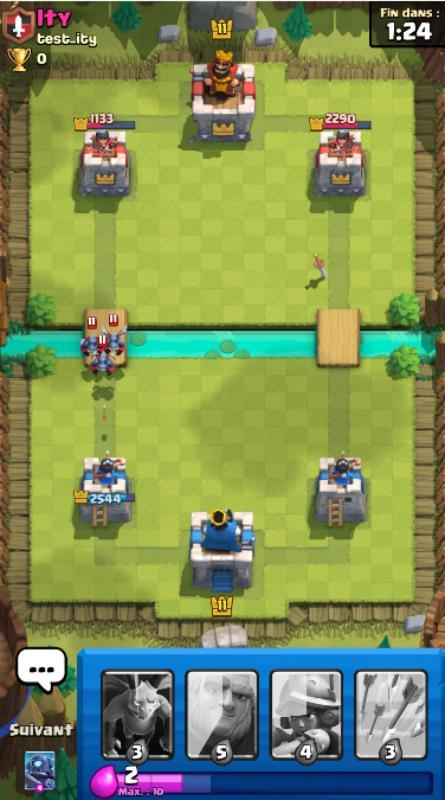gargouille: (102, 314, 128, 356), (91, 334, 115, 377), (80, 315, 103, 357)
